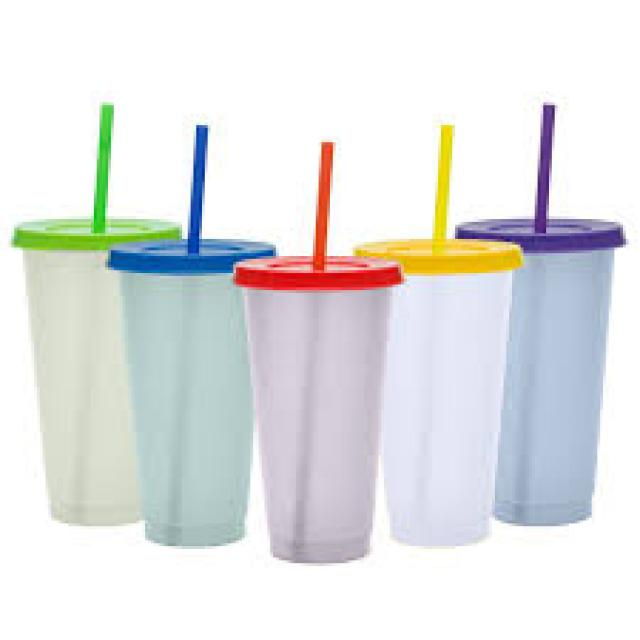cup: (220, 241, 426, 572)
